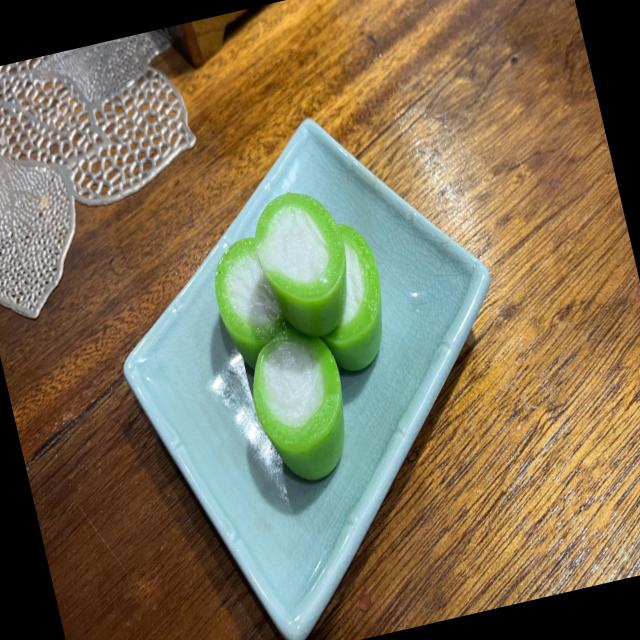nona-manis: (252, 328, 344, 480), (254, 192, 346, 337), (214, 236, 289, 368)
